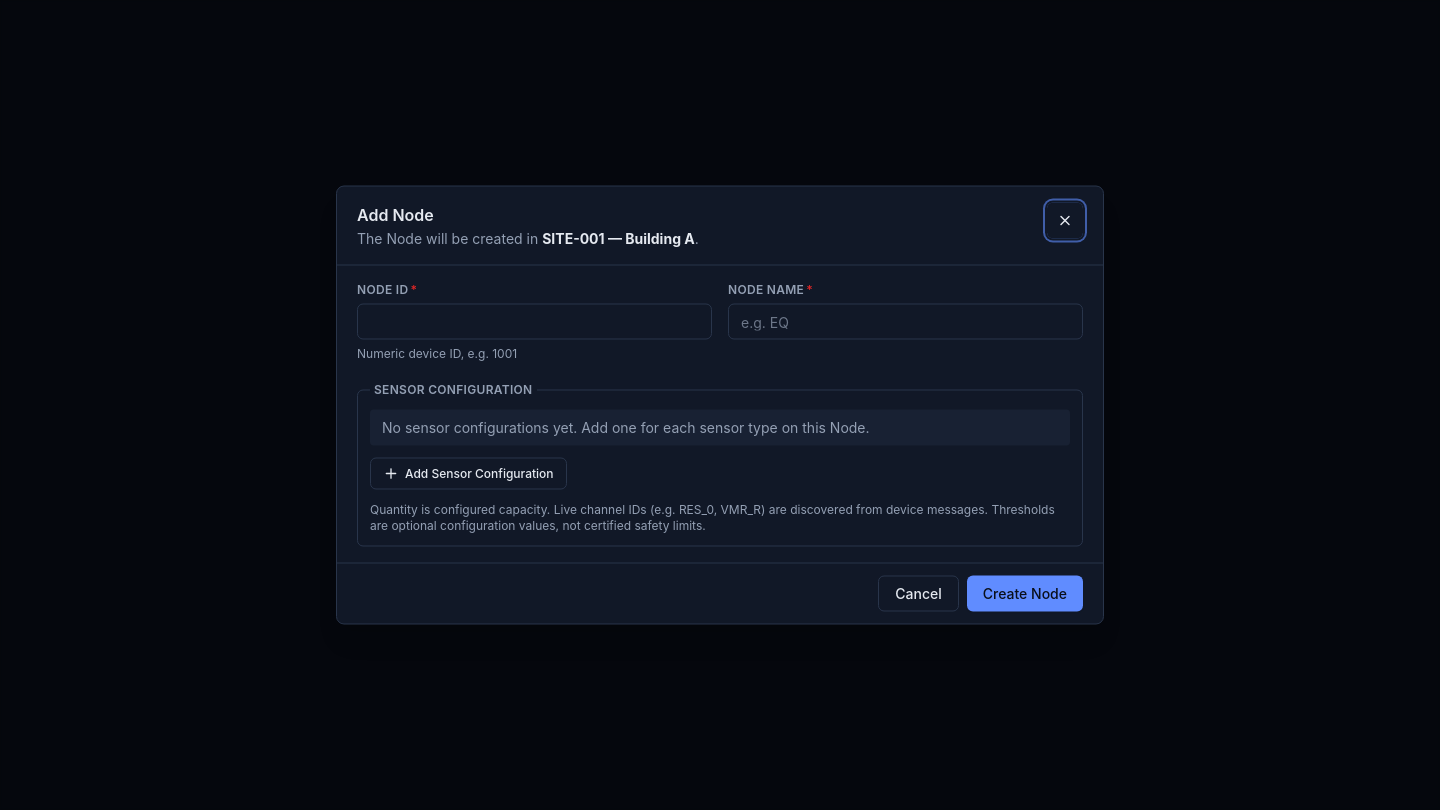
Test: Add Node modal › validates quantity > 0 client-side and does not submit
Type "1001" into the field labelled "Node ID*".
click(534, 322); type("1001")  # box [357, 304, 712, 340]
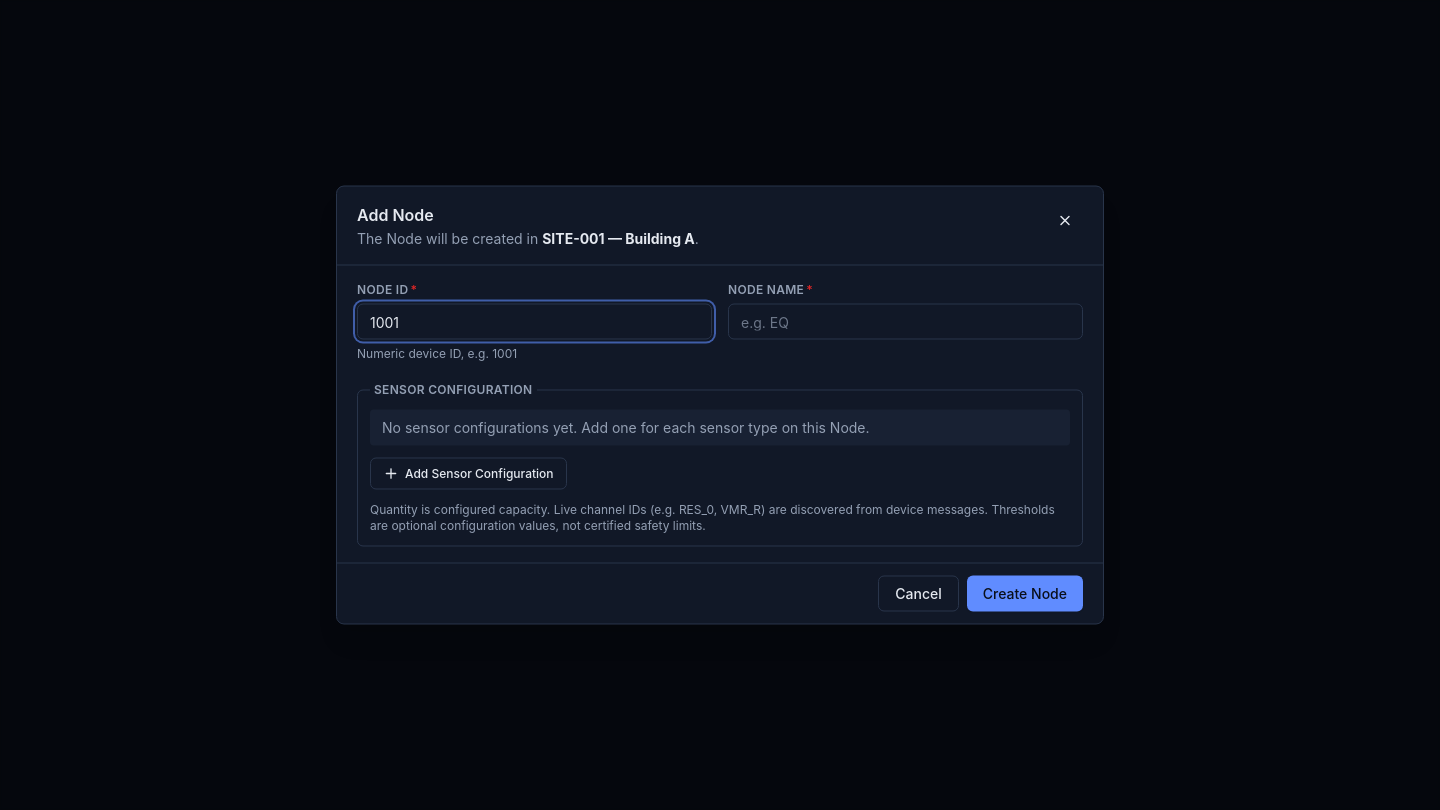
Type "EQ" into the field labelled "Node Name*".
click(906, 322); type("EQ")  # box [728, 304, 1083, 340]
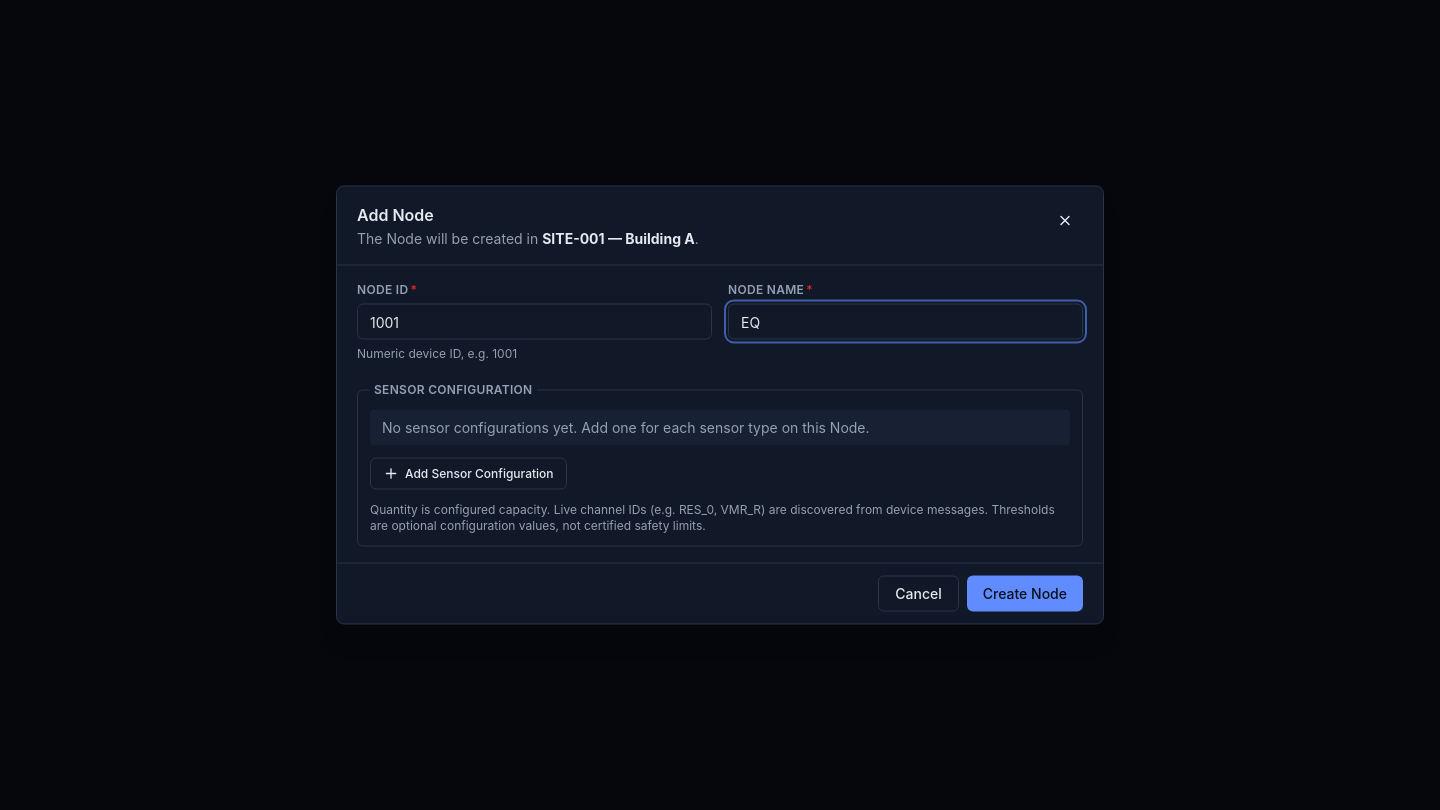
Click the button "Add Sensor Configuration".
click(468, 474)  # box [370, 458, 566, 490]
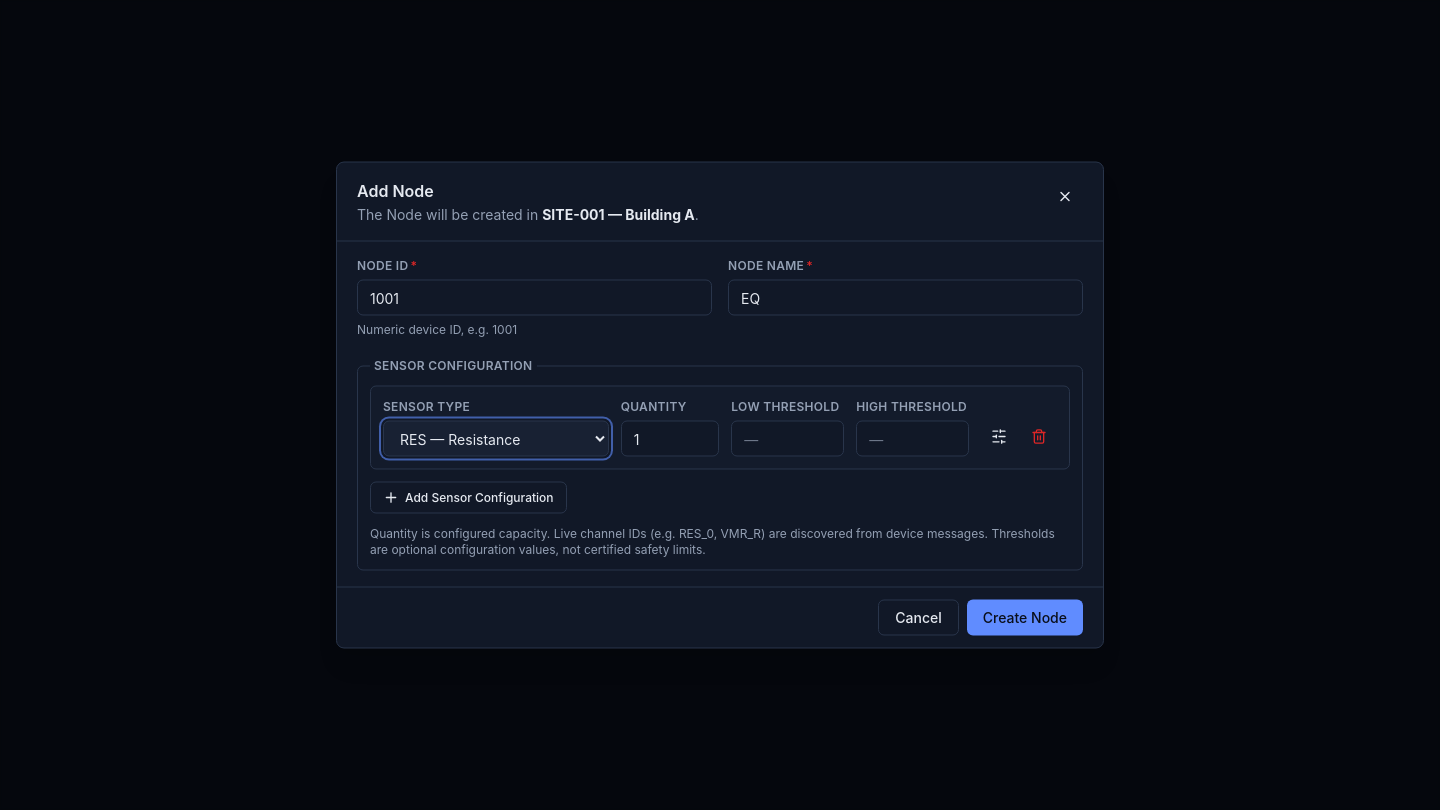
Replace the text in the number field labelled "Quantity" with "0" at x=670, y=438, box [621, 420, 719, 456]
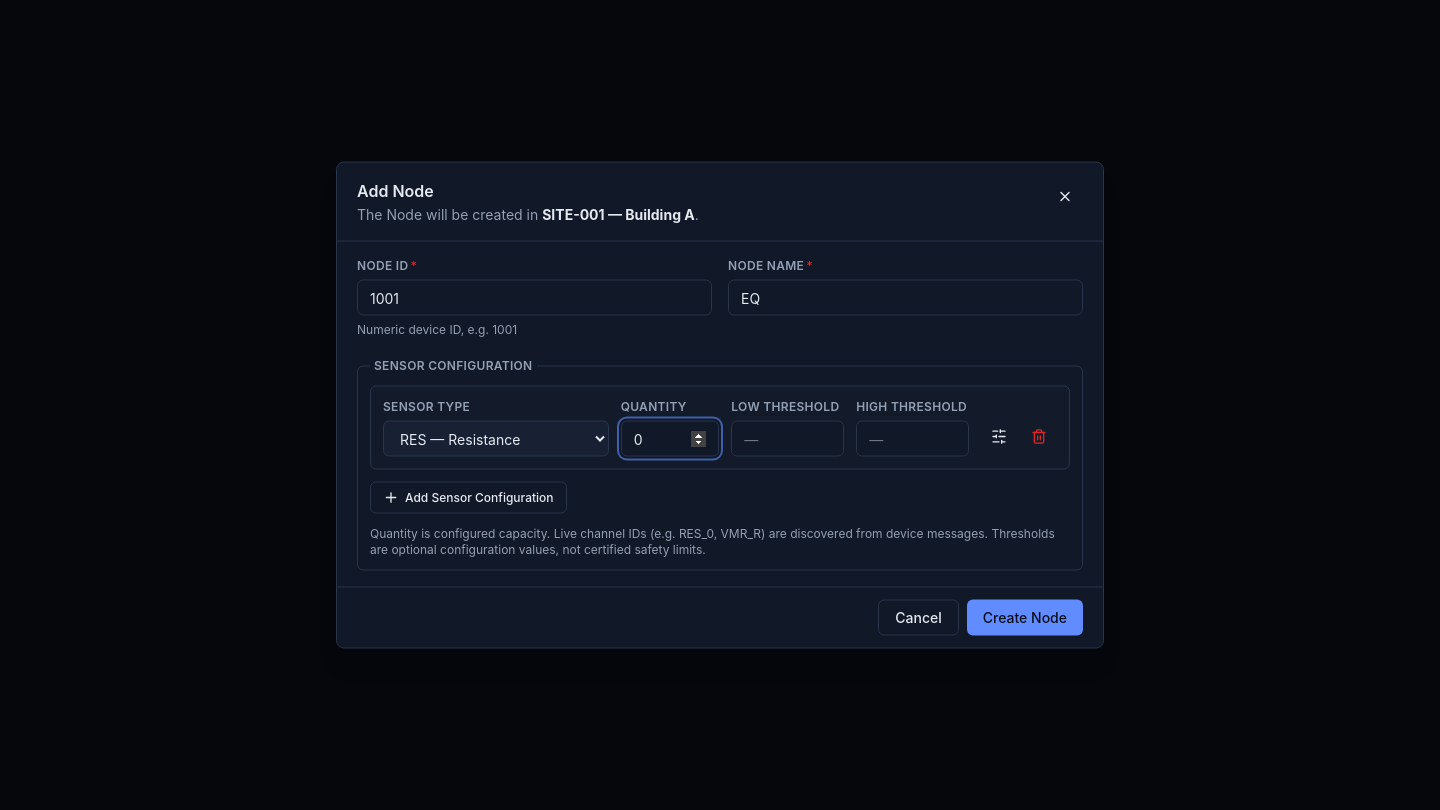
Click the button "Create Node".
click(1025, 618)  # box [967, 600, 1083, 636]
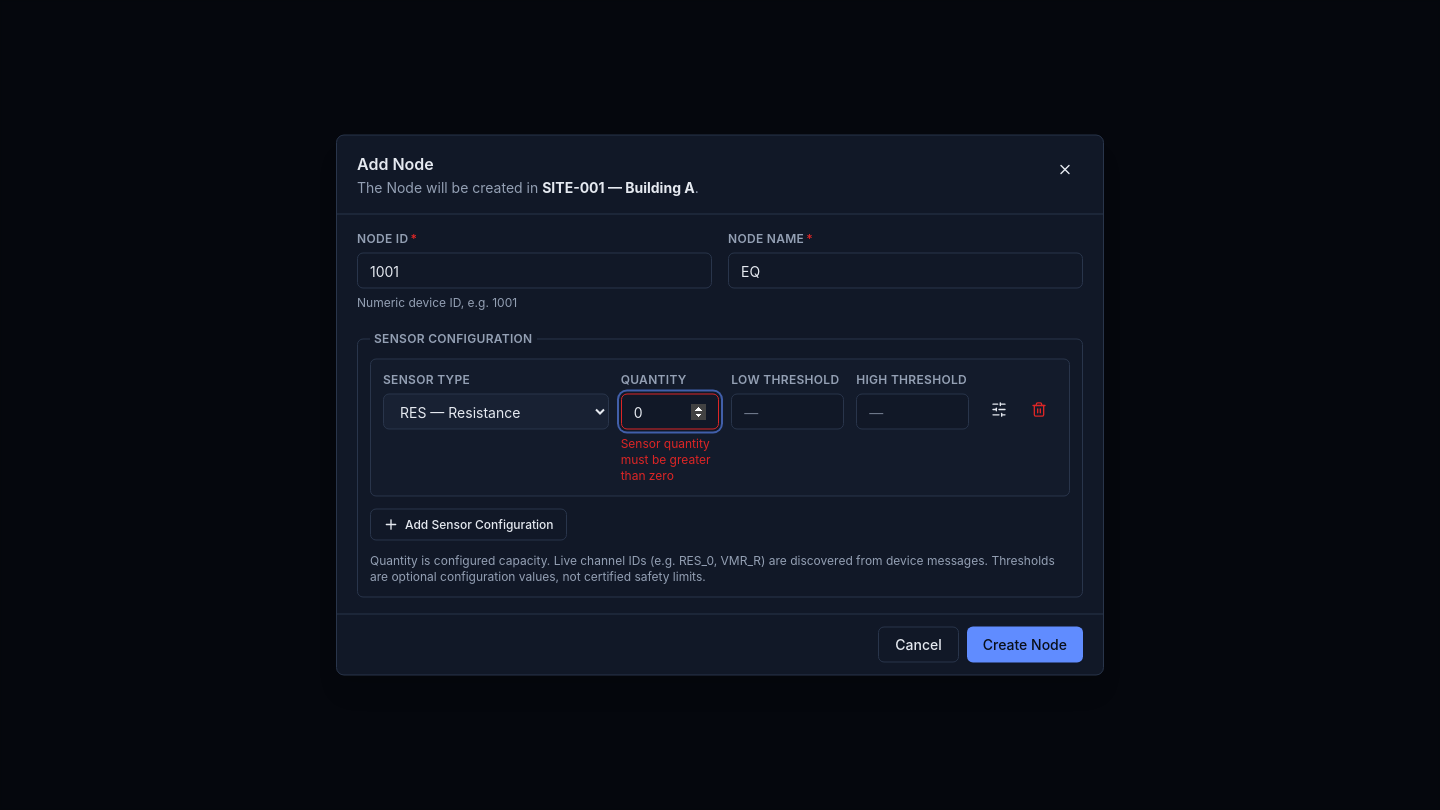
Now the text "Sensor quantity must be greater than zero" is shown, box [621, 436, 719, 484]
